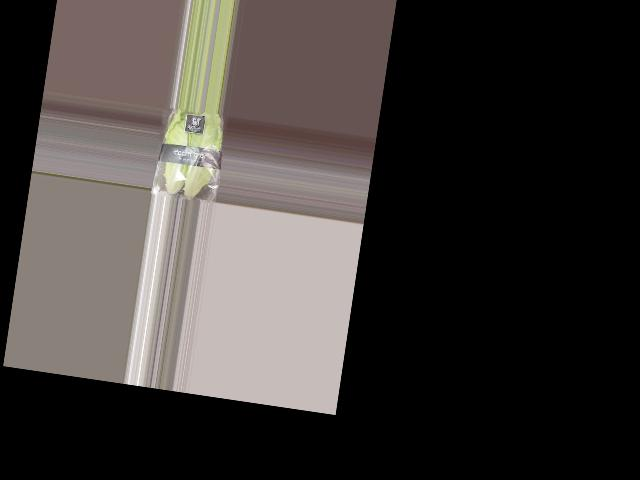lettuce: (151, 106, 224, 203)
